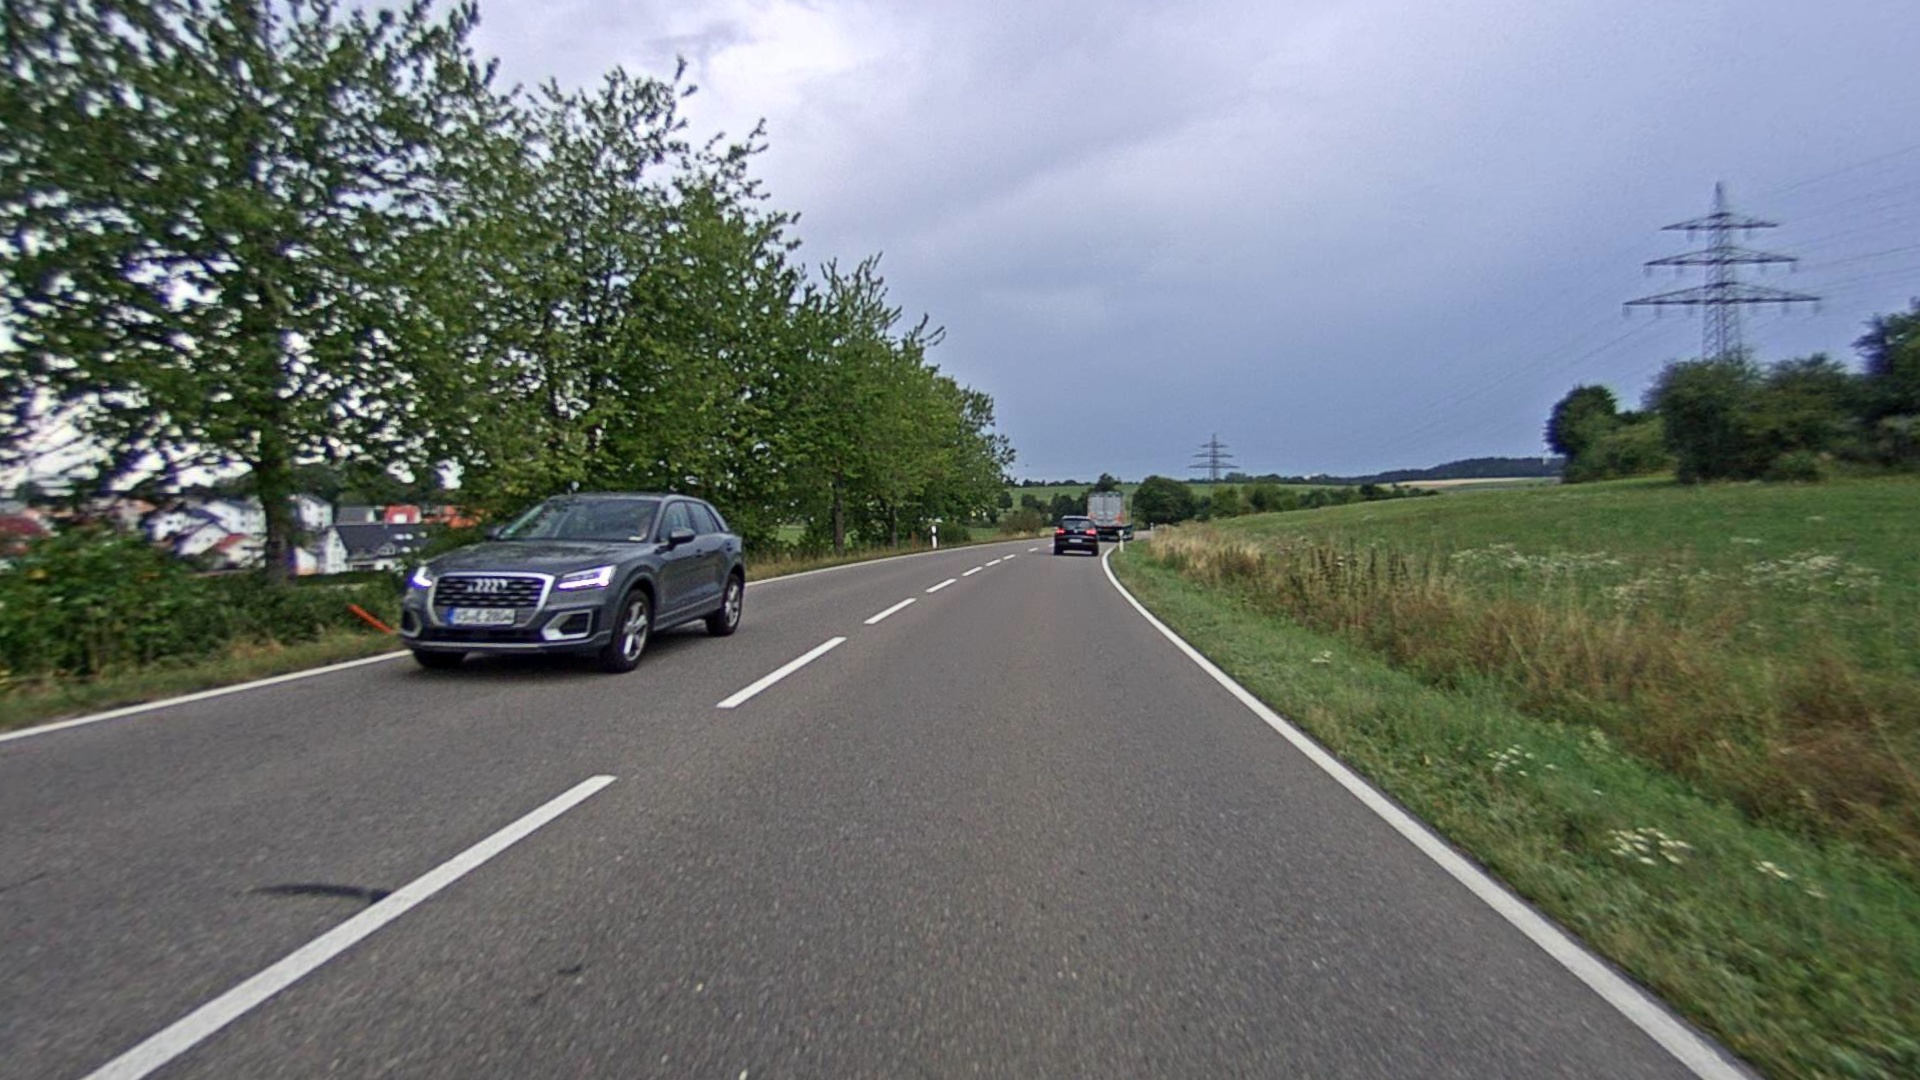car: (388, 487, 750, 676)
